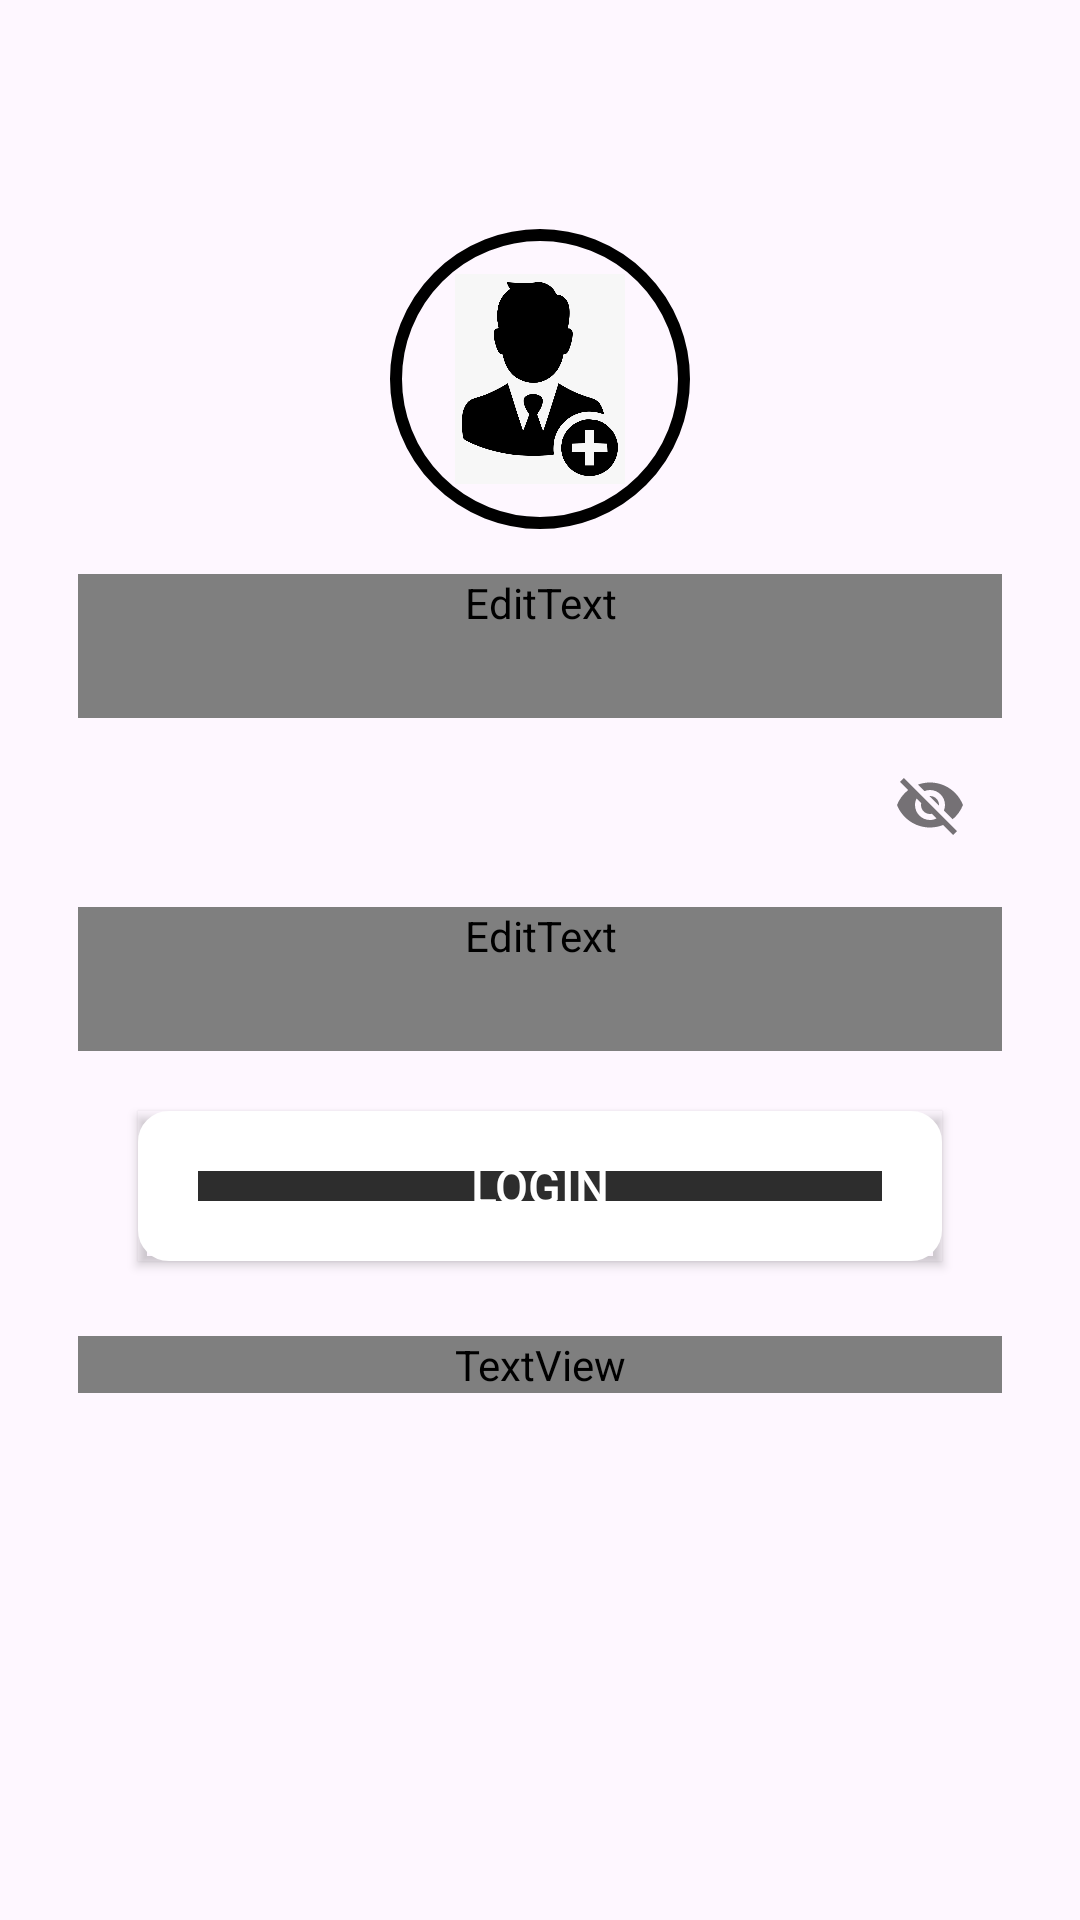

Where to tap for icons on this 1080*1920 app screen, as [x,y]:
add: [540,379]
